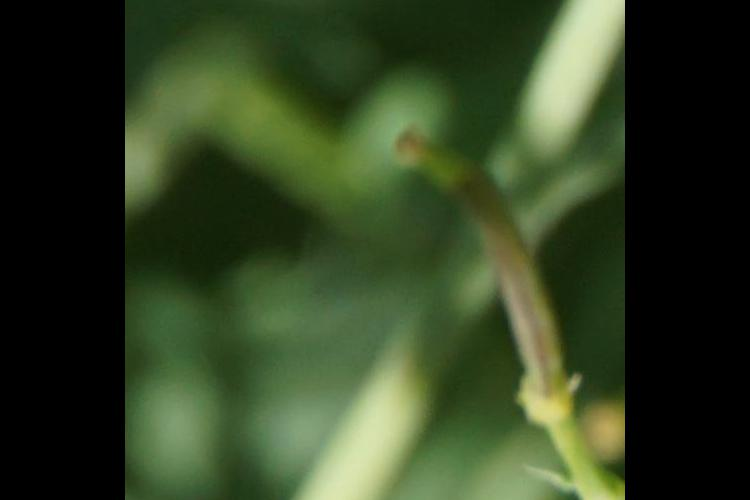pod: (401, 94, 574, 477)
